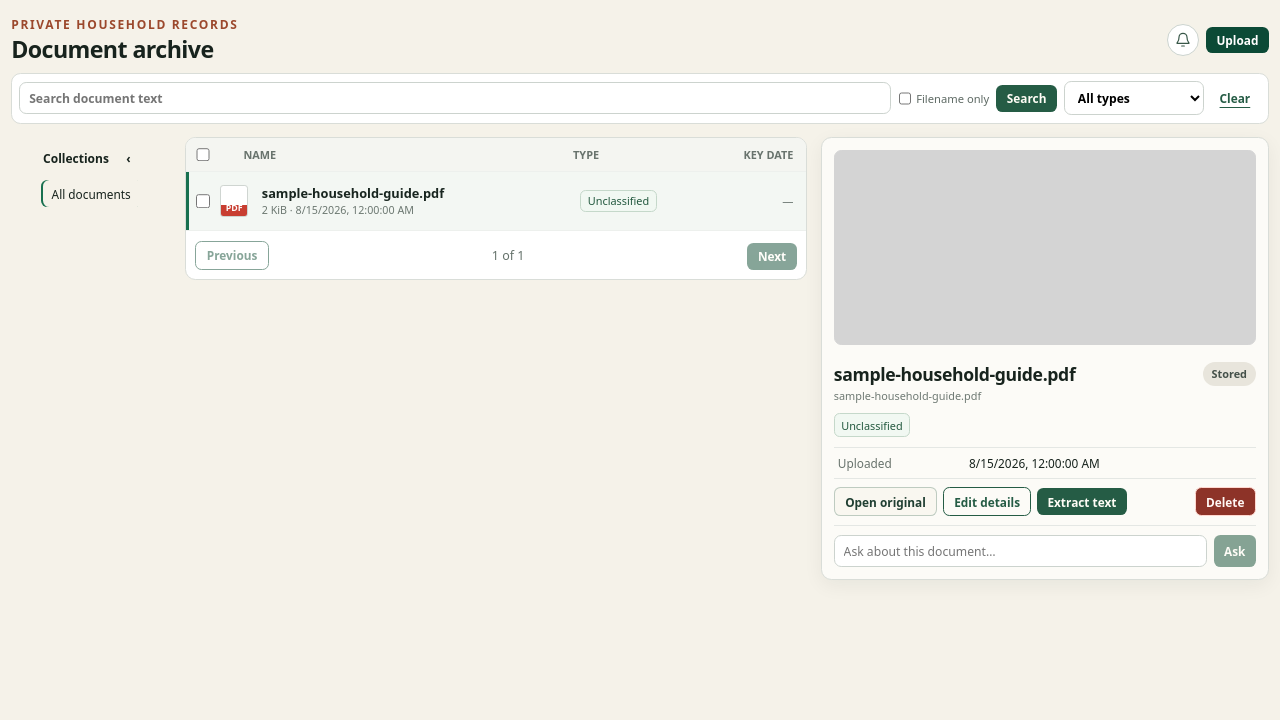
DocumentWorkspace › loads the library and runs explicit extraction
expect the button "sample-household-guide.pdf" is shown: met, box [186,172,806,230]
Click the button "Extract text" at (1082, 502), box [1037,488,1127,515]
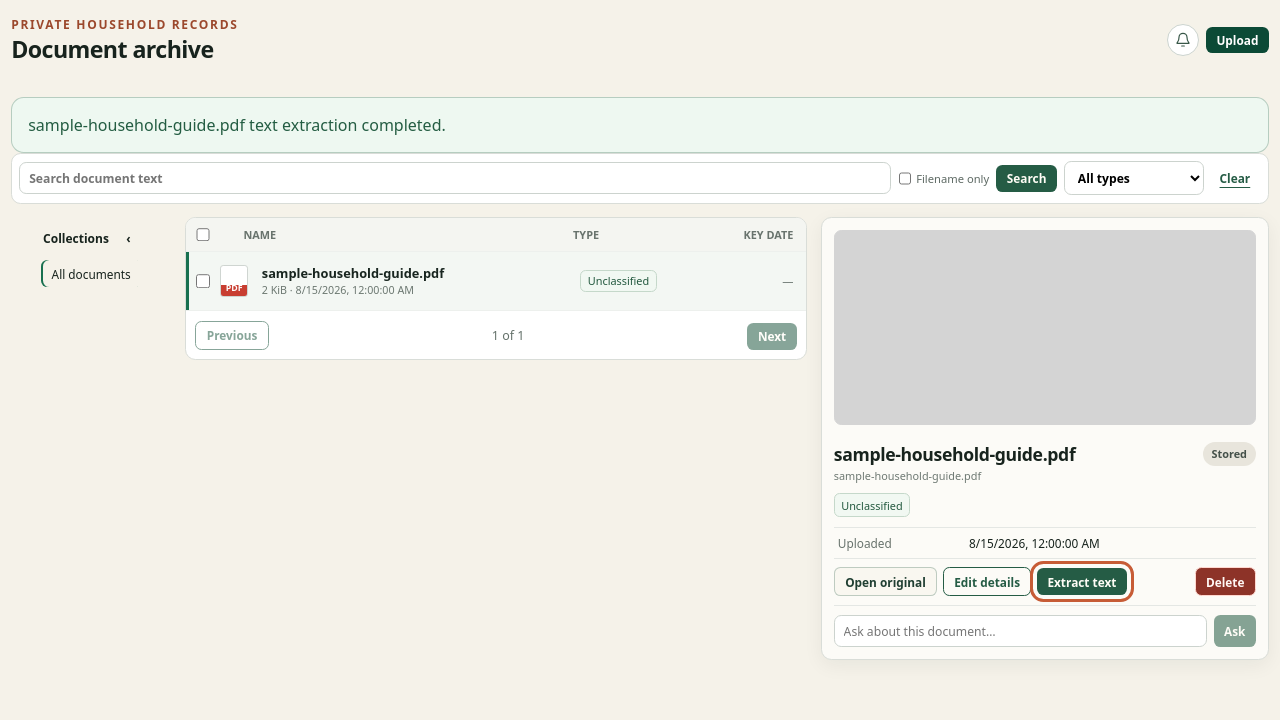
expect the message shows "text extraction completed": met, box [28,114,446,136]
